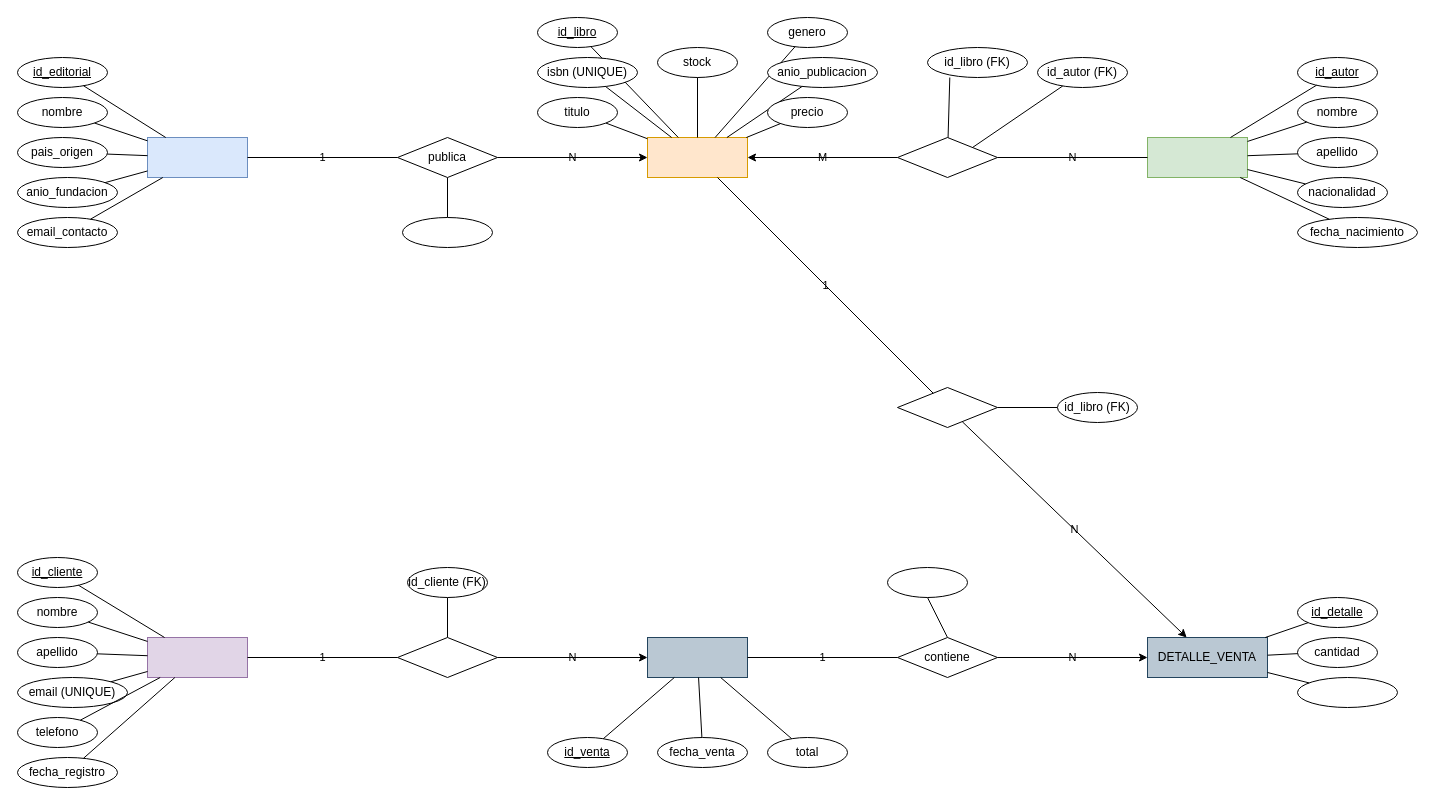
Some shapes in this 1435 by 805 pixel diagram are drawn without their labels. Here are the shapes that lost their labels. From the top down, the centre of each, then its label:
the point at 197,157: EDITORIAL
the point at 697,157: LIBRO
the point at 947,157: libro autor
the point at 1197,157: AUTOR
the point at 447,232: id_editorial (FK)
the point at 947,407: aparece en
the point at 927,582: id_venta (FK)
the point at 197,657: CLIENTE
the point at 447,657: realiza
the point at 697,657: VENTA
the point at 1347,692: precio_unitario
